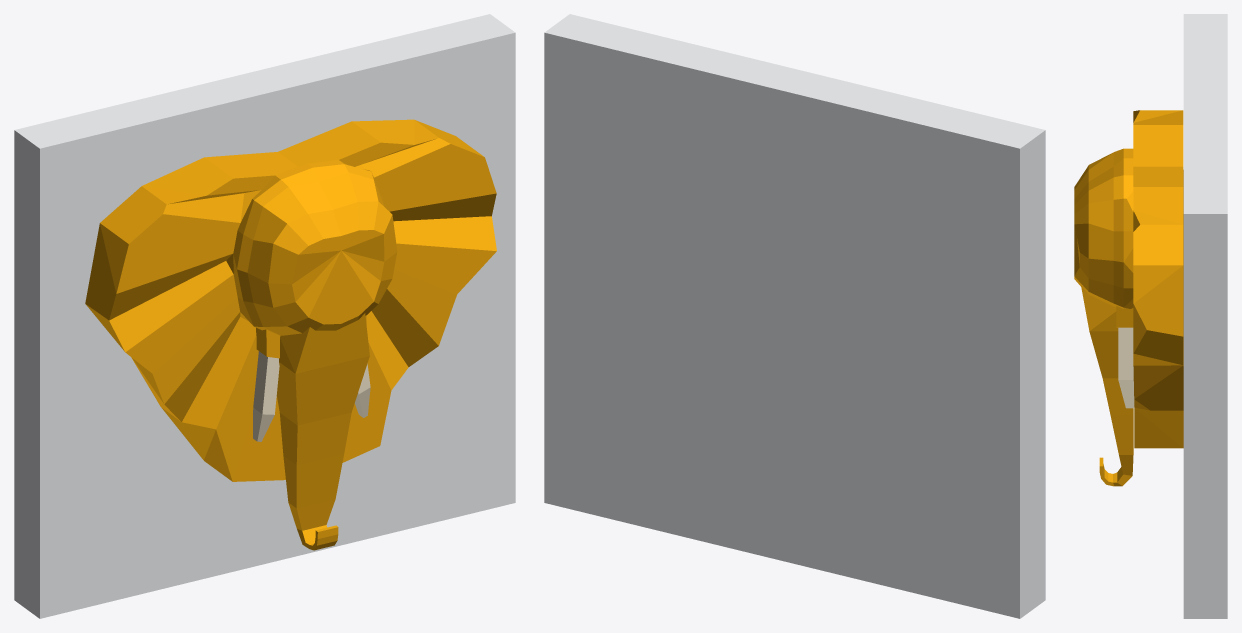
File: Accesories_Frame_elephant.glb
The picture shows the model from 3 angles, left to right: view 1: azimuth 30°, elevation 25°; view 2: azimuth 150°, elevation 25°; view 3: azimuth 270°, elevation 25°; orthographic projection. The views are drawn at different scales.
Parts seen in each view (by area): view 1: Accesories_Frame_elephant; view 2: Accesories_Frame_elephant; view 3: Accesories_Frame_elephant.
Boxes of the visible parts, x1=… form: Accesories_Frame_elephant: x1=14, y1=14, x2=515, y2=618; Accesories_Frame_elephant: x1=544, y1=14, x2=1045, y2=618; Accesories_Frame_elephant: x1=1074, y1=14, x2=1227, y2=618.
Size of the model in its own units: 0.7537 by 0.7119 by 0.2442.
1 material, 1 textured.
